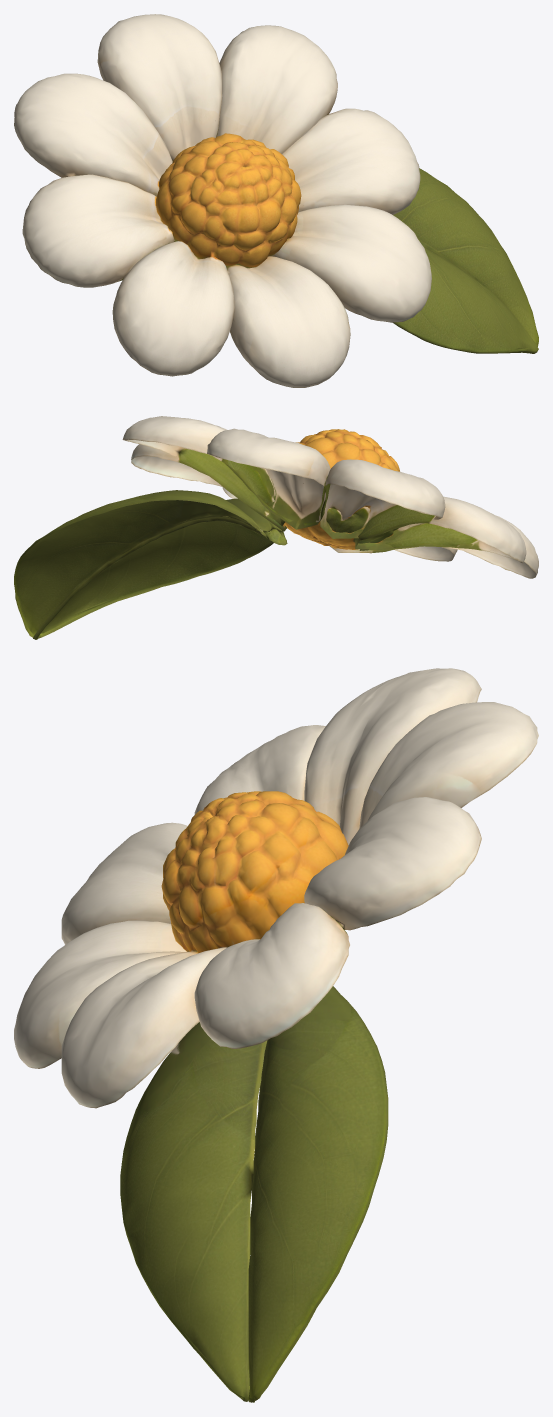
The model's file is mem_ac_daisy.fbx.
3 renders of one model, top to bottom at view 1: azimuth 30°, elevation 25°; view 2: azimuth 150°, elevation 25°; view 3: azimuth 270°, elevation 25°, orthographic. The views are drawn at different scales.
Visible parts, largest first — view 1: tripo_node_01b273b7-6fb6-490a-b17e-d9aed15e281a; view 2: tripo_node_01b273b7-6fb6-490a-b17e-d9aed15e281a; view 3: tripo_node_01b273b7-6fb6-490a-b17e-d9aed15e281a.
Part boxes in pixels (bbox=[...]): tripo_node_01b273b7-6fb6-490a-b17e-d9aed15e281a: bbox=[14, 14, 538, 387]; tripo_node_01b273b7-6fb6-490a-b17e-d9aed15e281a: bbox=[14, 416, 538, 639]; tripo_node_01b273b7-6fb6-490a-b17e-d9aed15e281a: bbox=[14, 668, 538, 1402].
Size of the model in its own units: 0.998 by 0.6465 by 0.6465.
1 material, 1 textured.
